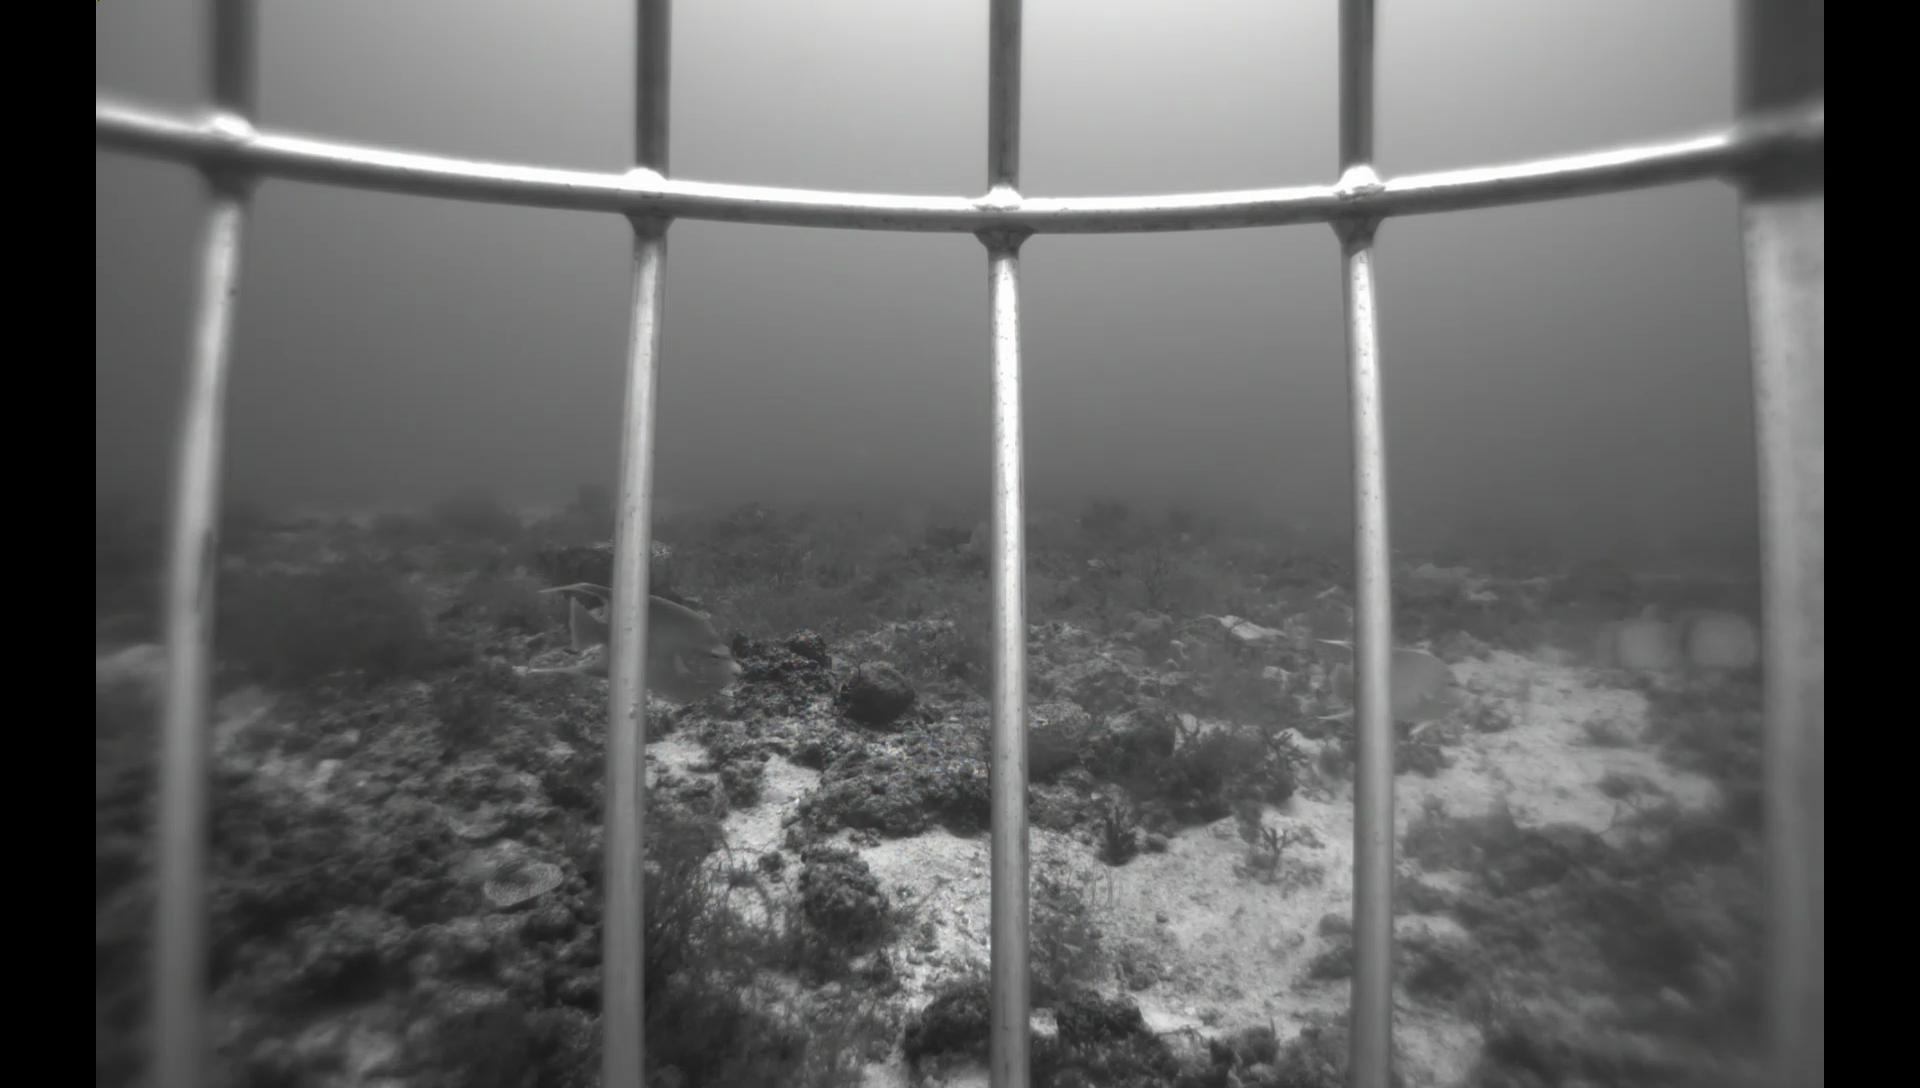CHAETODONOCELLATUS-170260307: (1582, 609, 1684, 678), (1671, 607, 1760, 673)
HOLACANTHUSBERMUDENSIS-170290102: (509, 572, 746, 708), (1299, 622, 1476, 745)
MYCTEROPERCAPHENAX-170022105: (945, 520, 992, 562)
